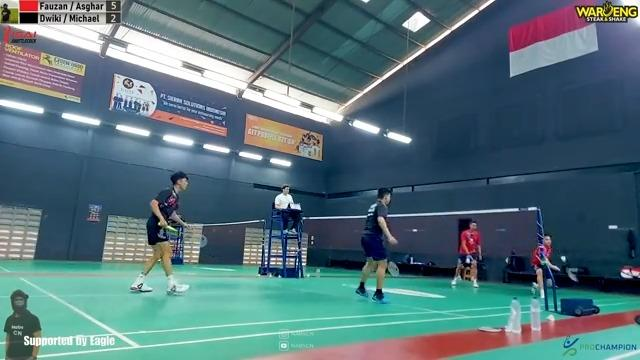Shuttlecock: (558, 251, 568, 263)
